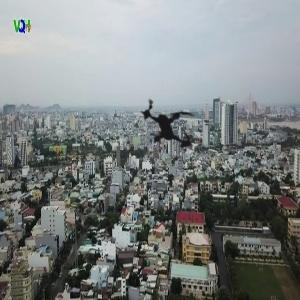drone: (110, 70, 226, 186)
